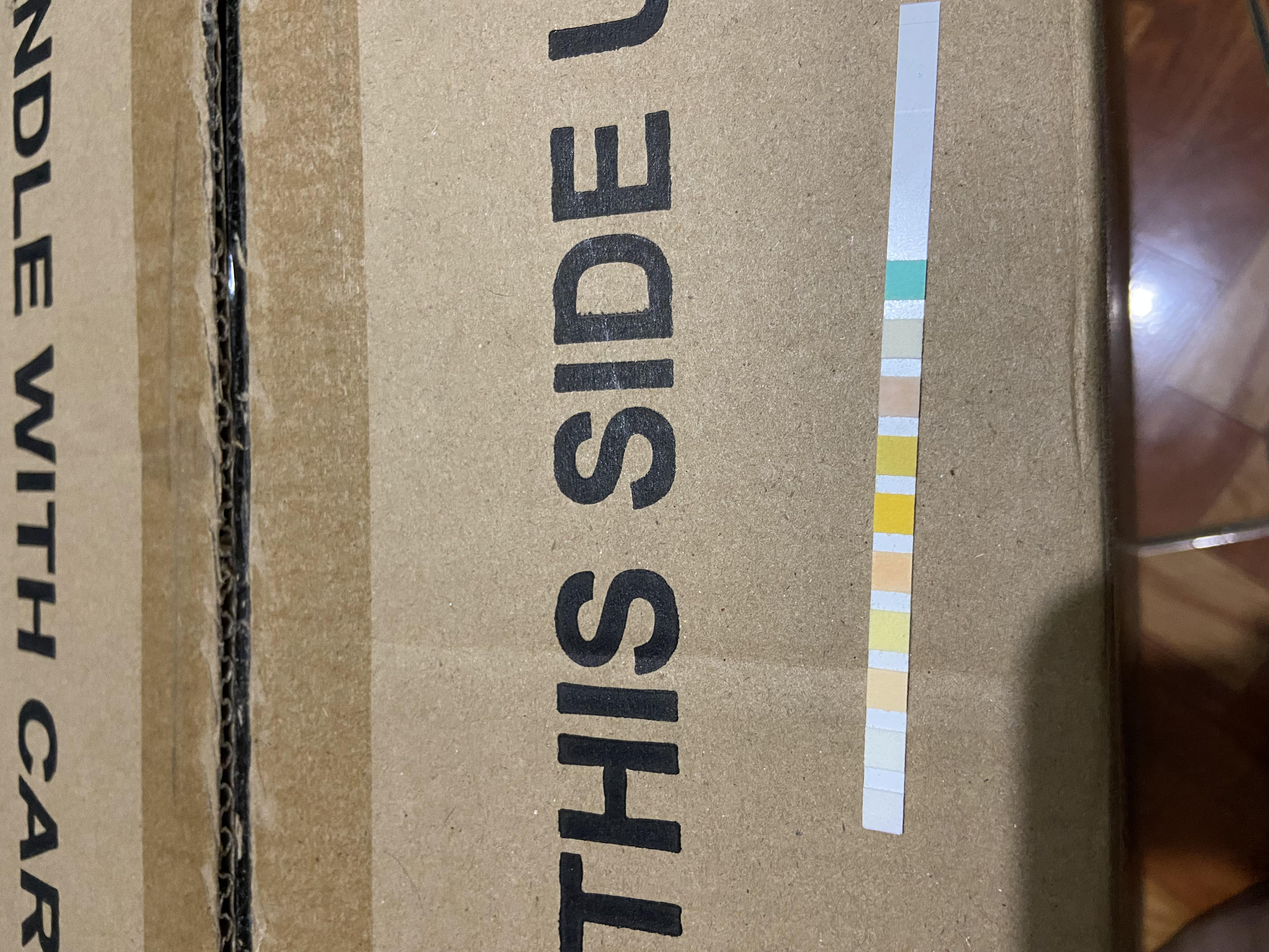Bilirubin: (884, 320, 921, 357)
Blood: (875, 495, 912, 531)
Glucose: (887, 261, 924, 299)
Ketone: (881, 377, 918, 417)
Leukocytes: (863, 792, 902, 827)
Nitrite: (867, 731, 905, 767)
Protein: (871, 613, 909, 649)
SpGravity: (879, 435, 917, 474)
Urobilinogen: (868, 672, 907, 706)
pH: (874, 553, 910, 590)
strip: (863, 2, 940, 838)
